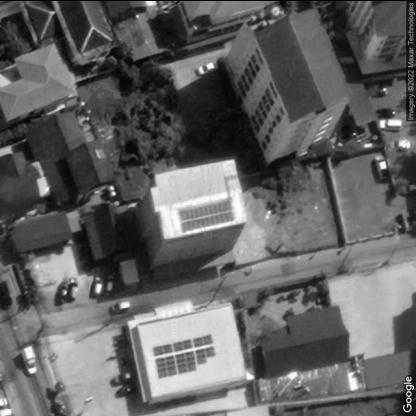solar-pv-panel: (152, 332, 217, 380), (179, 195, 233, 229)
